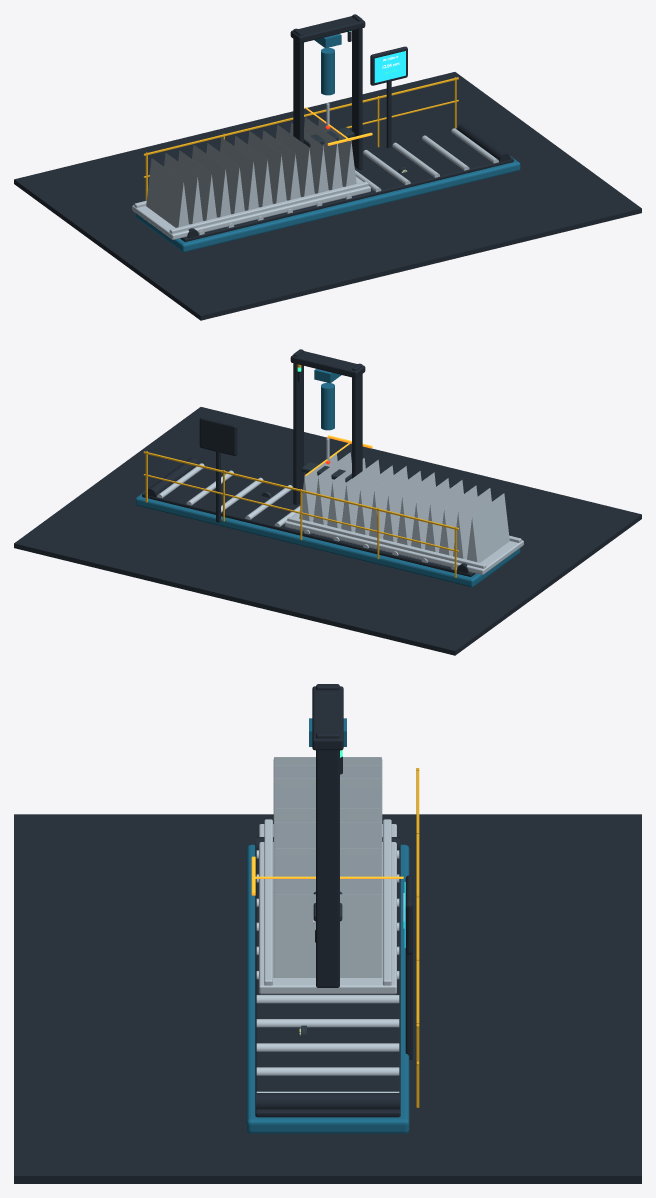
The model's file is stereo_vision_encoder_station.glb.
The picture shows the model from 3 angles, top to bottom: view 1: azimuth 30°, elevation 25°; view 2: azimuth 150°, elevation 25°; view 3: azimuth 270°, elevation 25°; orthographic projection. The views are drawn at different scales.
Visible parts, largest first — view 1: Factory floor, Moving belt, Conveyor chassis, Triangular fin 01, Radiator pallet, Fixed C-frame post.001, Front header, Fixed C-frame post, Triangular fin 06, Triangular fin 04, Triangular fin 10, Triangular fin 08 (+14 smaller); view 2: Factory floor, Moving belt, Conveyor chassis, Triangular fin 01, Radiator pallet, Fixed C-frame post.001, HMI housing, Fixed C-frame post, Rear header, Triangular fin 06, Triangular fin 10, Triangular fin 04 (+14 smaller); view 3: Factory floor, Moving belt, Conveyor chassis, Triangular fin 13, Fixed C-frame post.001, Radiator pallet, End roller.001, Fixed measurement crossbeam, Front header, Rear header, Triangular fin 08, Triangular fin 12 (+12 smaller).
Part boxes in pixels (box(x1,y1,x2,y2)): Factory floor: box(14, 72, 641, 320); Moving belt: box(180, 132, 513, 241); Conveyor chassis: box(135, 156, 520, 252); Triangular fin 01: box(146, 158, 188, 227); Radiator pallet: box(132, 176, 370, 239); Fixed C-frame post.001: box(352, 14, 362, 169); Front header: box(169, 181, 368, 233); Fixed C-frame post: box(293, 28, 303, 143); Triangular fin 06: box(220, 137, 258, 210); Triangular fin 04: box(192, 145, 230, 217); Triangular fin 10: box(276, 124, 314, 197); Triangular fin 08: box(248, 131, 286, 203); Factory floor: box(14, 407, 641, 655); Moving belt: box(142, 468, 475, 576); Conveyor chassis: box(135, 491, 520, 587); Triangular fin 01: box(467, 493, 509, 562); Radiator pallet: box(285, 511, 523, 574); Fixed C-frame post.001: box(293, 349, 303, 504); HMI housing: box(199, 417, 237, 456); Fixed C-frame post: box(352, 363, 362, 478); Rear header: box(287, 516, 486, 568); Triangular fin 06: box(397, 472, 435, 545); Triangular fin 10: box(341, 459, 379, 532); Triangular fin 04: box(425, 480, 463, 552); Factory floor: box(14, 814, 641, 1183); Moving belt: box(255, 844, 400, 1117); Conveyor chassis: box(246, 844, 409, 1133); Triangular fin 13: box(273, 894, 382, 977); Fixed C-frame post.001: box(316, 732, 339, 987); Radiator pallet: box(259, 824, 396, 994); End roller.001: box(256, 1093, 399, 1109); Fixed measurement crossbeam: box(312, 686, 343, 750); Front header: box(264, 819, 272, 985); Rear header: box(383, 819, 391, 985); Triangular fin 08: box(273, 832, 382, 849); Triangular fin 12: box(273, 879, 382, 896).
Bounding box in the file's own units: 30 × 11.35 × 22.
